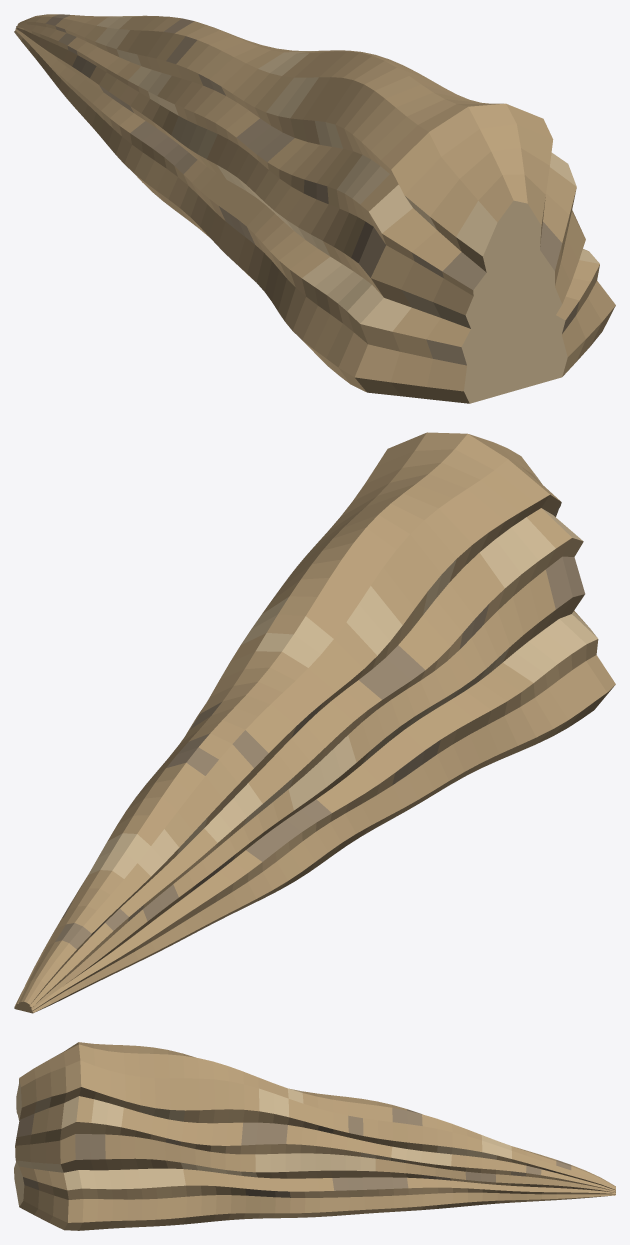
File: yardang.glb
3 views of the same model, one above another, from view 1: azimuth 30°, elevation 25°; view 2: azimuth 150°, elevation 25°; view 3: azimuth 270°, elevation 25° (orthographic). The views are drawn at different scales.
Visible parts, largest first — view 1: single_wind_eroded_stepped_and_longitudinally_fluted_ridge; view 2: single_wind_eroded_stepped_and_longitudinally_fluted_ridge; view 3: single_wind_eroded_stepped_and_longitudinally_fluted_ridge.
Boxes of the visible parts, x1,y1,x2,y2 form: single_wind_eroded_stepped_and_longitudinally_fluted_ridge: [14, 14, 615, 403]; single_wind_eroded_stepped_and_longitudinally_fluted_ridge: [14, 432, 615, 1013]; single_wind_eroded_stepped_and_longitudinally_fluted_ridge: [14, 1042, 615, 1230].
Size of the model in its own units: 2.58 by 2.21 by 8.07.
